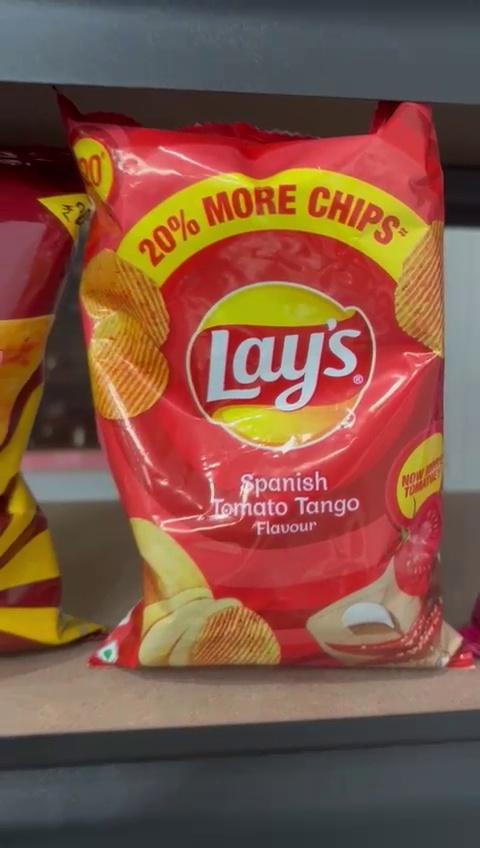Lays: (69, 114, 469, 675)
